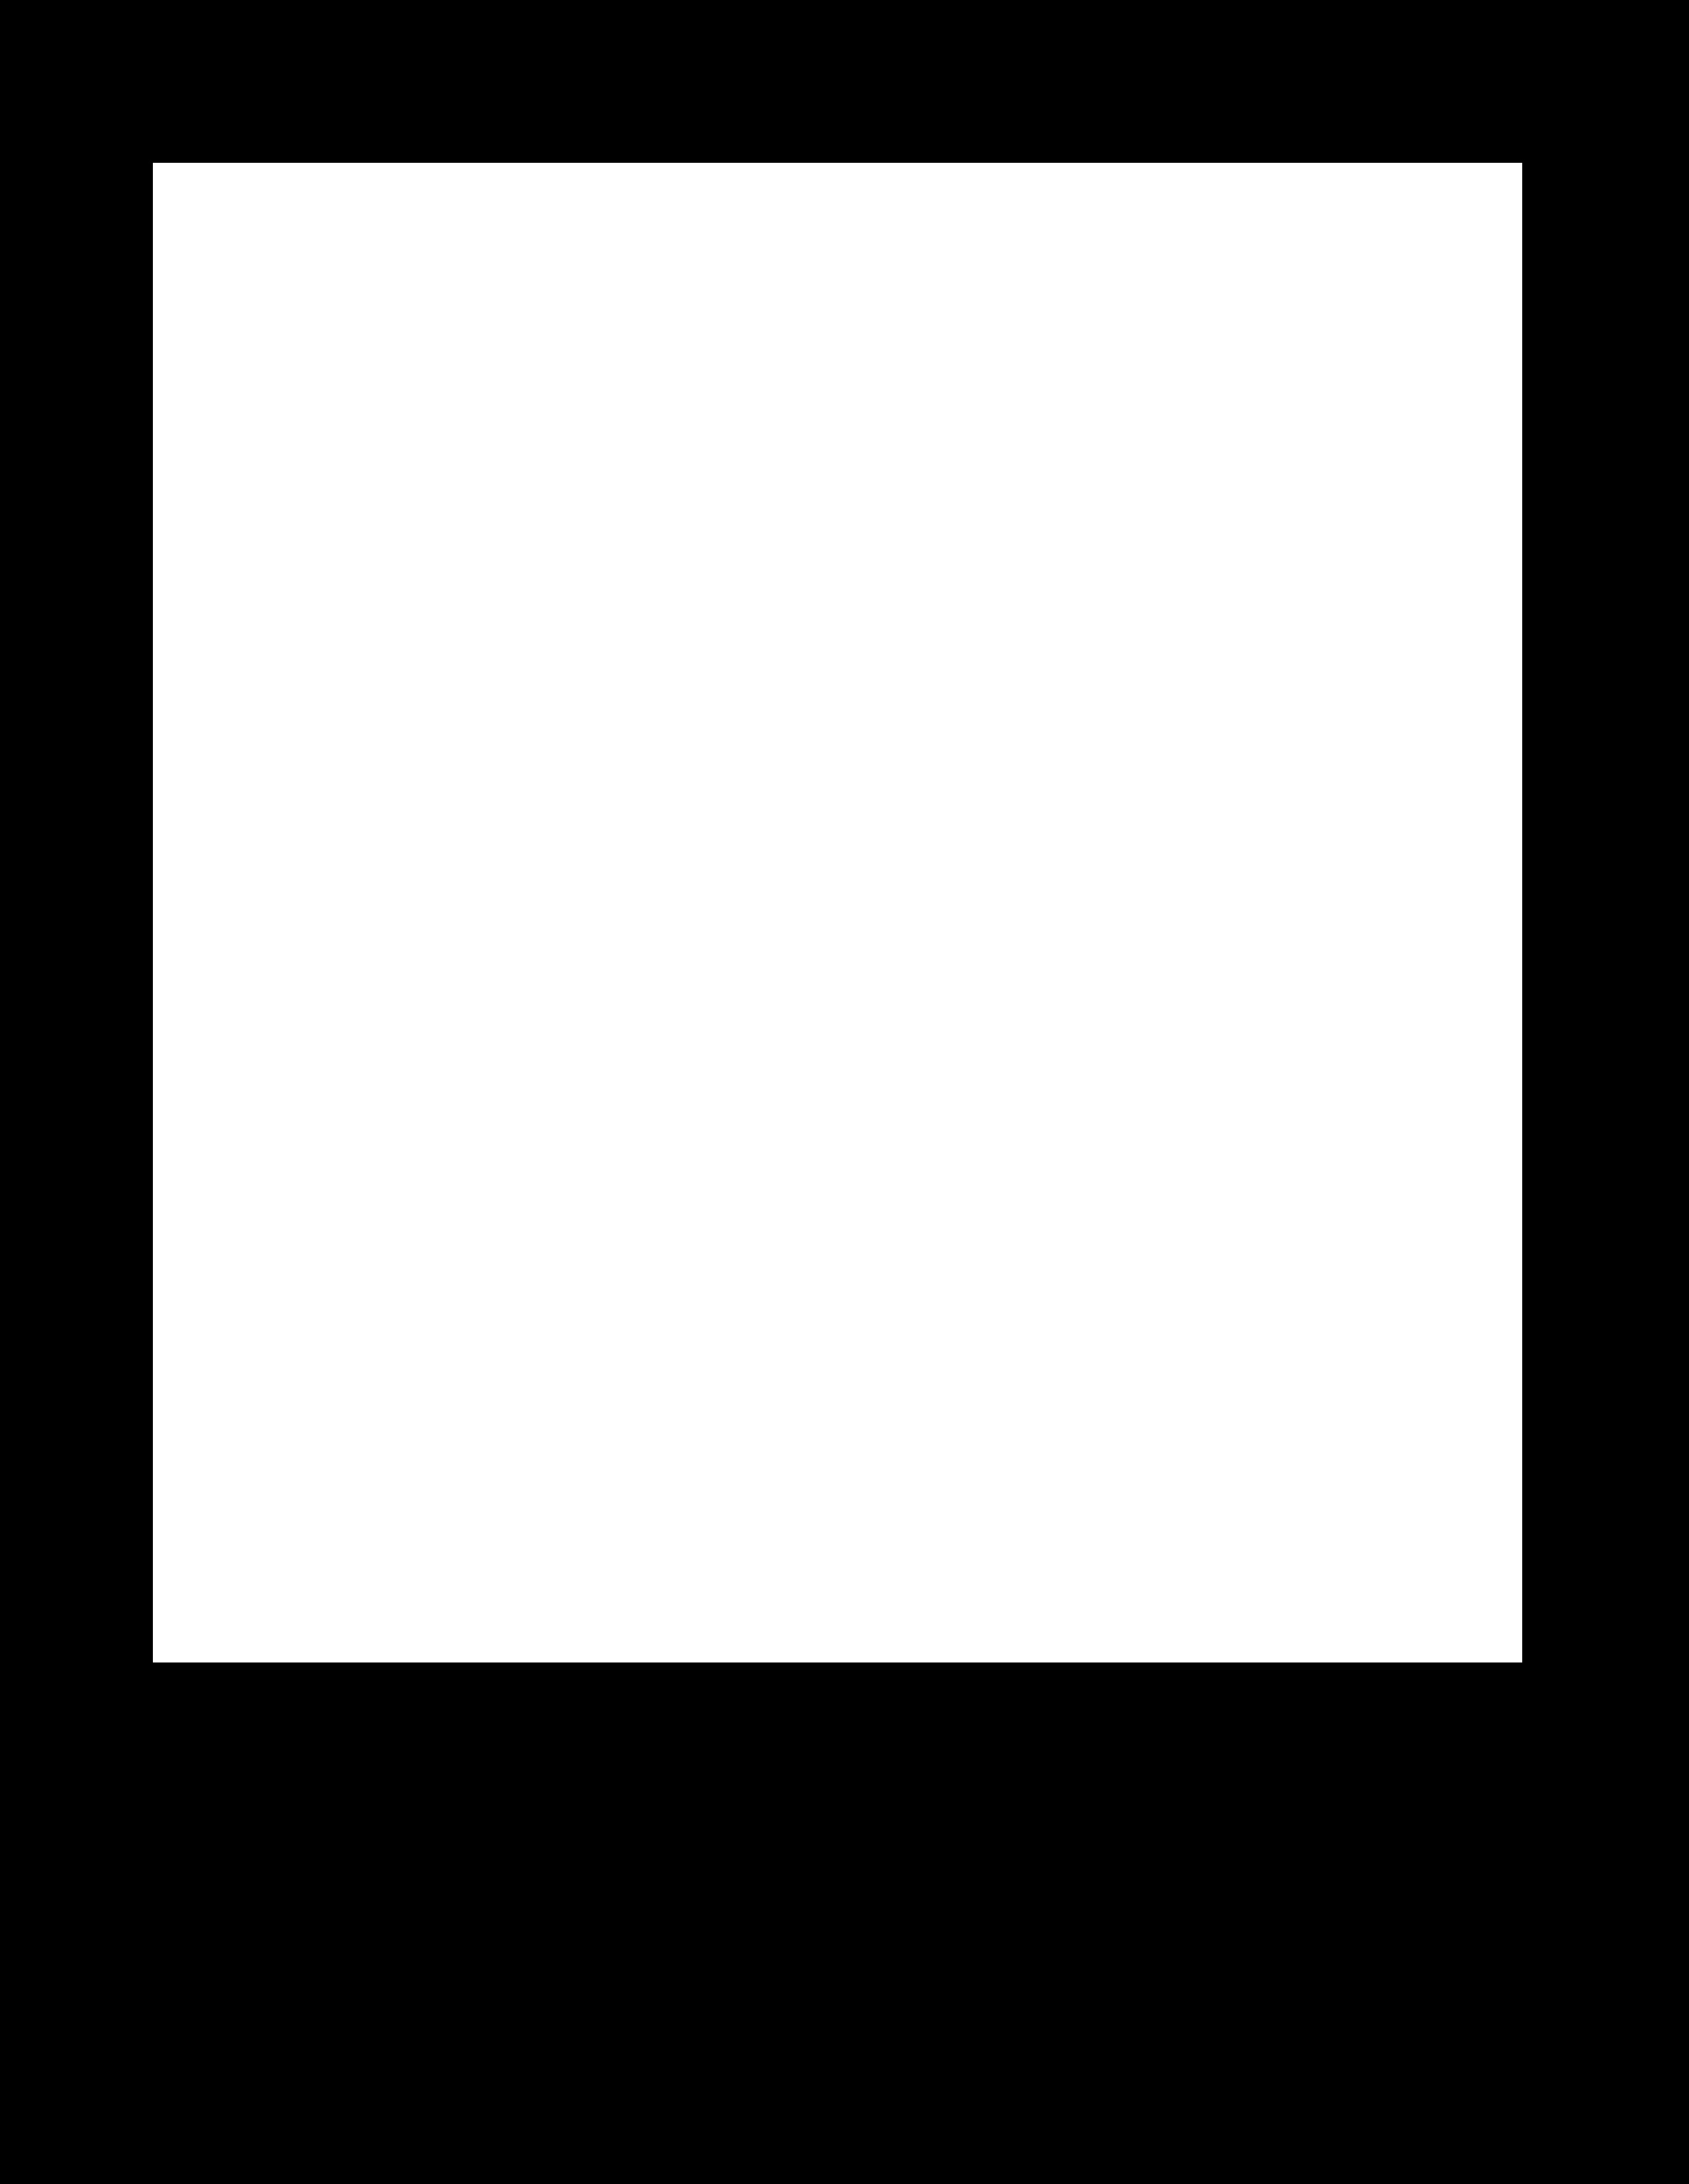table: (152, 163, 1522, 1661)
